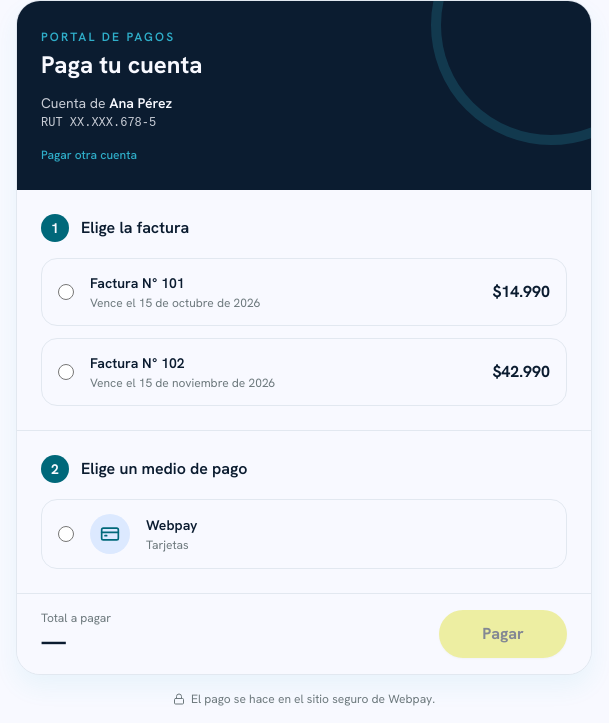
PortalDePagos › pagar exige elegir una factura y un medio (RF-31)
Expected: the button "Pagar" is disabled, [439,610,567,658]
Click the radio button labelled "Webpay Tarjetas". click: {"x": 66, "y": 534}
box: [58,526,74,542]
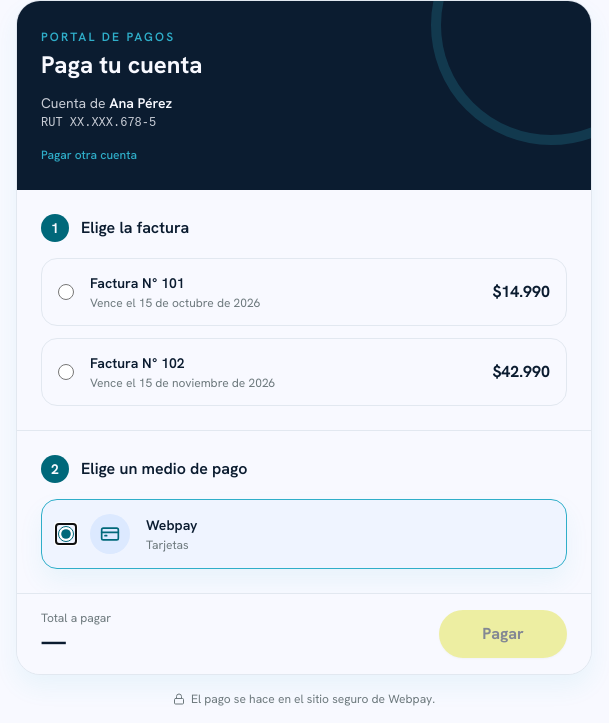
Expected: the button "Pagar" is disabled, [439,610,567,658]
Click the radio button labelled "Factura N° 102 Vence el 15 de noviembre de 2026 $42.990". click: {"x": 66, "y": 372}
box: [58,364,74,380]
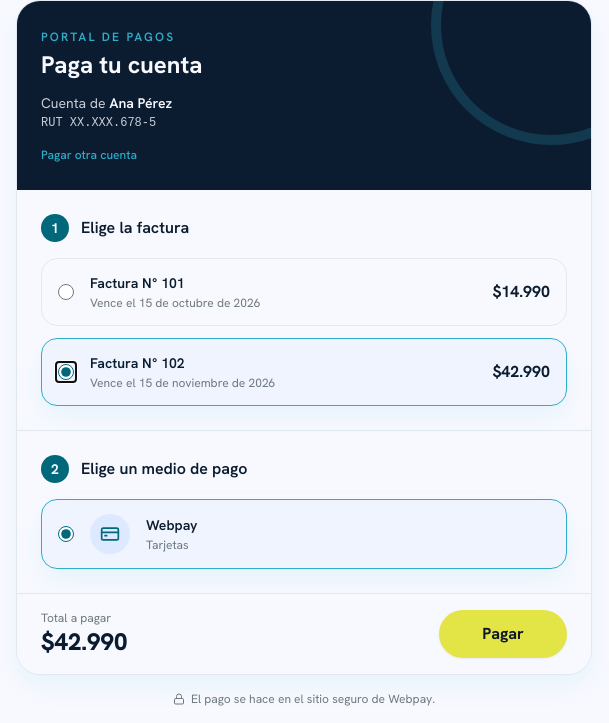
Expected: the text "$42.990" is shown 2 times, [492,360,550,384]; [41,626,127,658]
Result: the button "Pagar" is enabled at [439,610,567,658]
